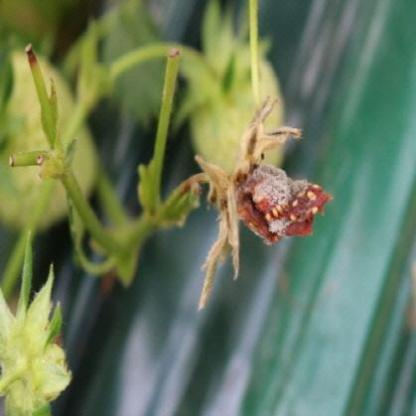Strawberry_Gray_Mold: (195, 97, 335, 309)
